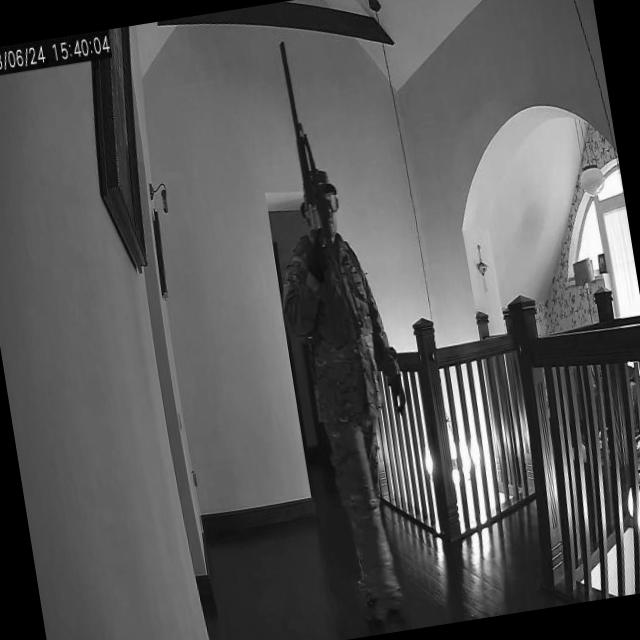gun: (273, 35, 354, 353)
person with a gun: (242, 29, 440, 640)
